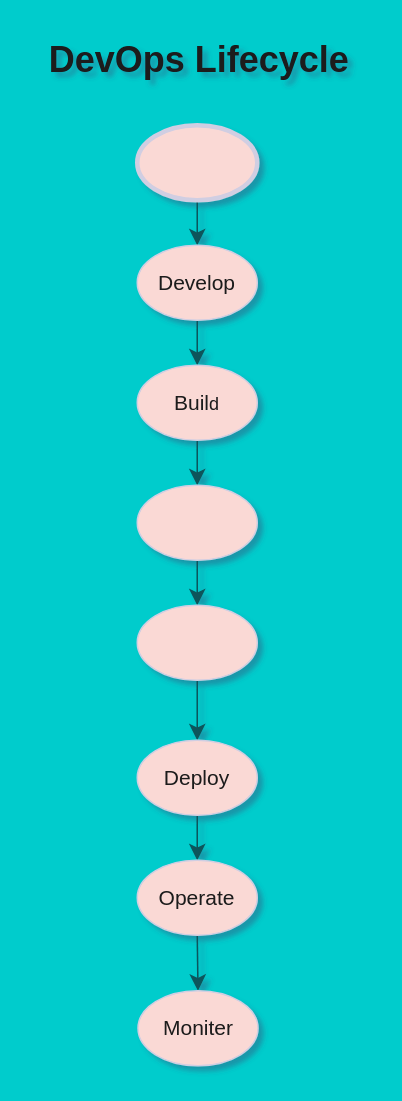
Some shapes in this 402 by 1101 pixel diagram are drawn without their labels. Here are the shapes that lost their labels. From the top down, the box of each, then its label:
(134, 122, 259, 202): Plan
(136, 484, 257, 560): Test
(136, 604, 257, 680): Release
